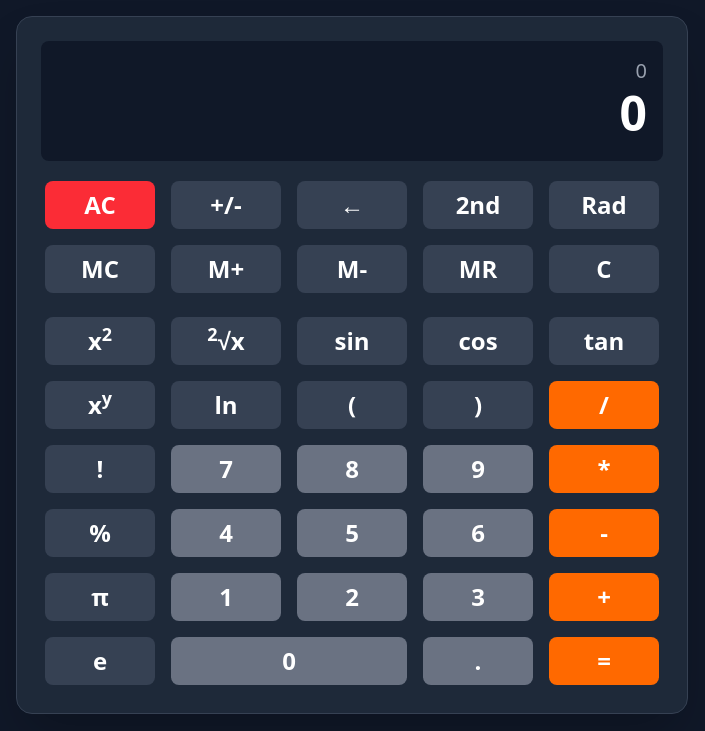
Scenario: Scientific Calculator Tests › should handle addition and show the correct result from the mocked backend
What coordinates should you click on to do the following:
click the button "8"
I would click on:
 (352, 469)
Its box is [297,445,407,493].
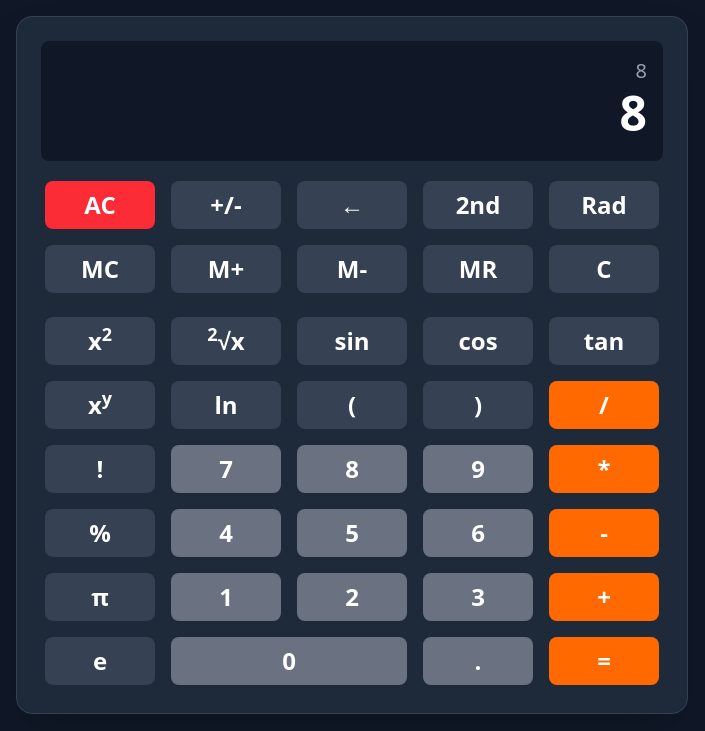
What coordinates should you click on to do the following:
click the button "+"
I would click on:
 (604, 597)
Its box is [549,573,659,621].
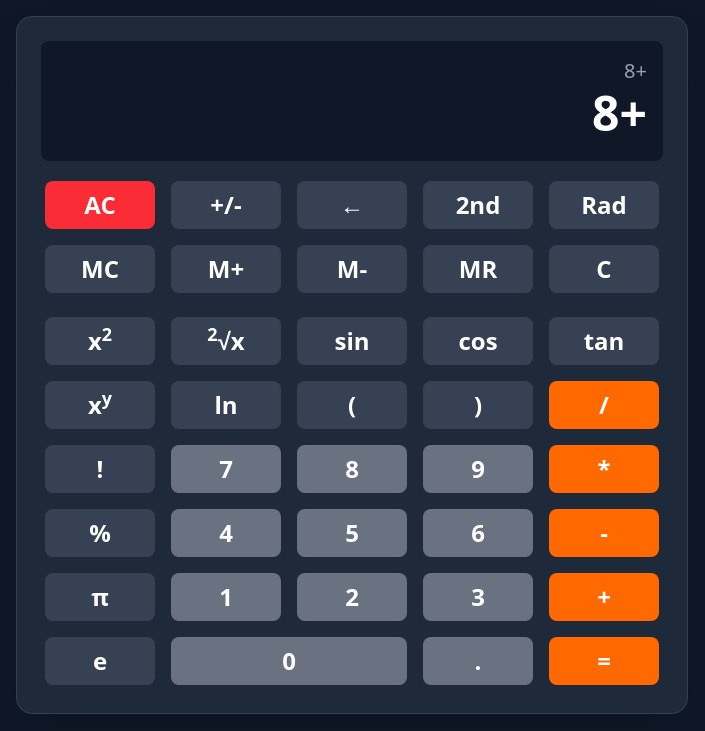
What coordinates should you click on to do the following:
click the button "4"
I would click on:
 (226, 533)
Its box is [171,509,281,557].
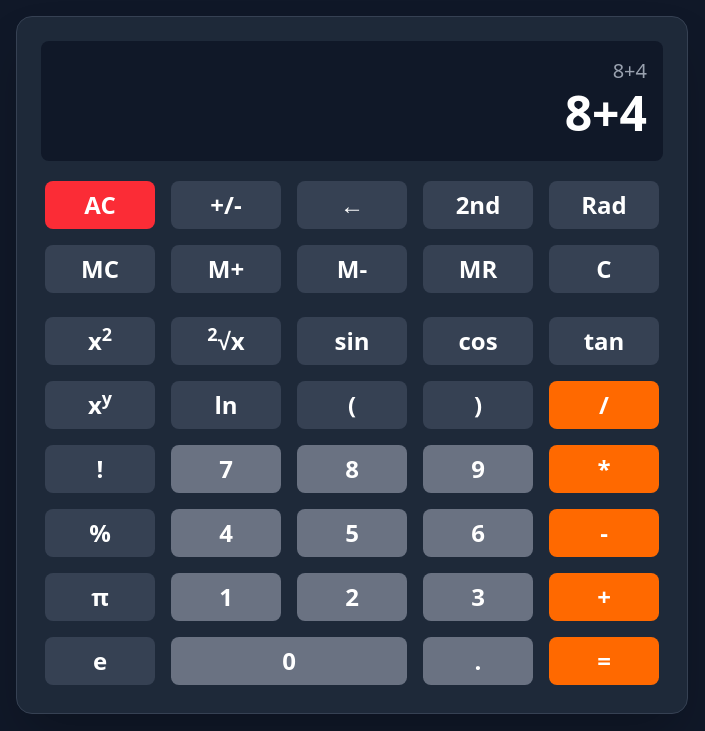
What coordinates should you click on to do the following:
click the button "="
I would click on:
 (604, 661)
Its box is [549,637,659,685].
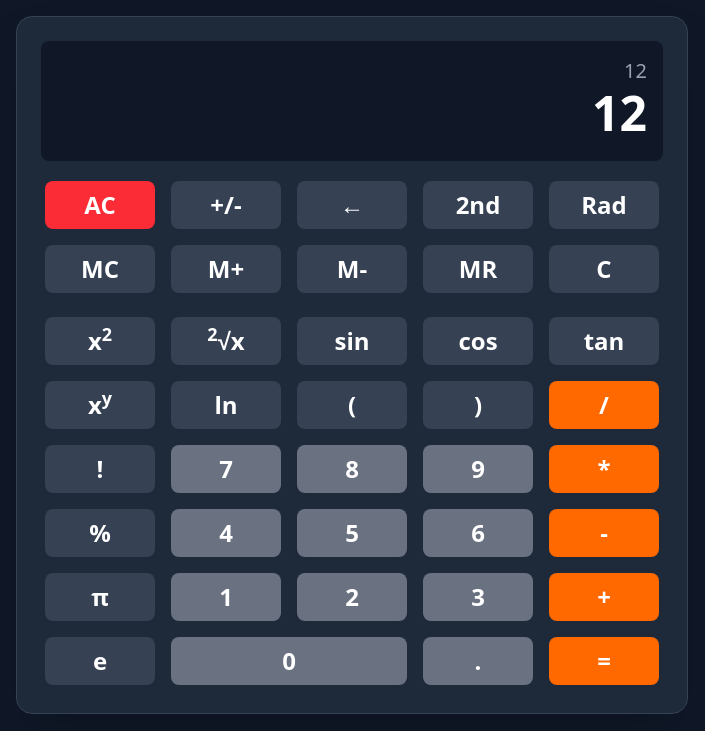
Expected: the 2nd text "12" is shown, [592,80,647,145]
